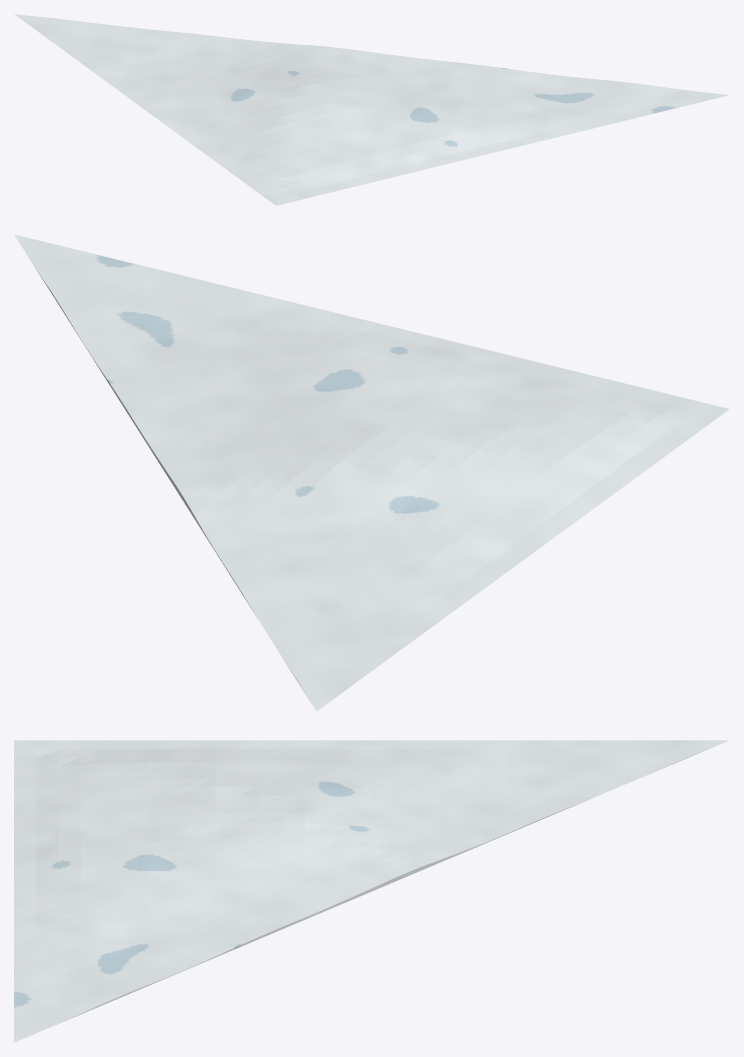
The model's file is Snow_Flat_01_NW.obj.
The picture shows the model from 3 angles, top to bottom: view 1: azimuth 30°, elevation 25°; view 2: azimuth 150°, elevation 25°; view 3: azimuth 270°, elevation 25°; orthographic projection. The views are drawn at different scales.
Bounding box in the file's own units: 10 × 0.1907 × 10.
Materials: 1 (1 with a texture image).
